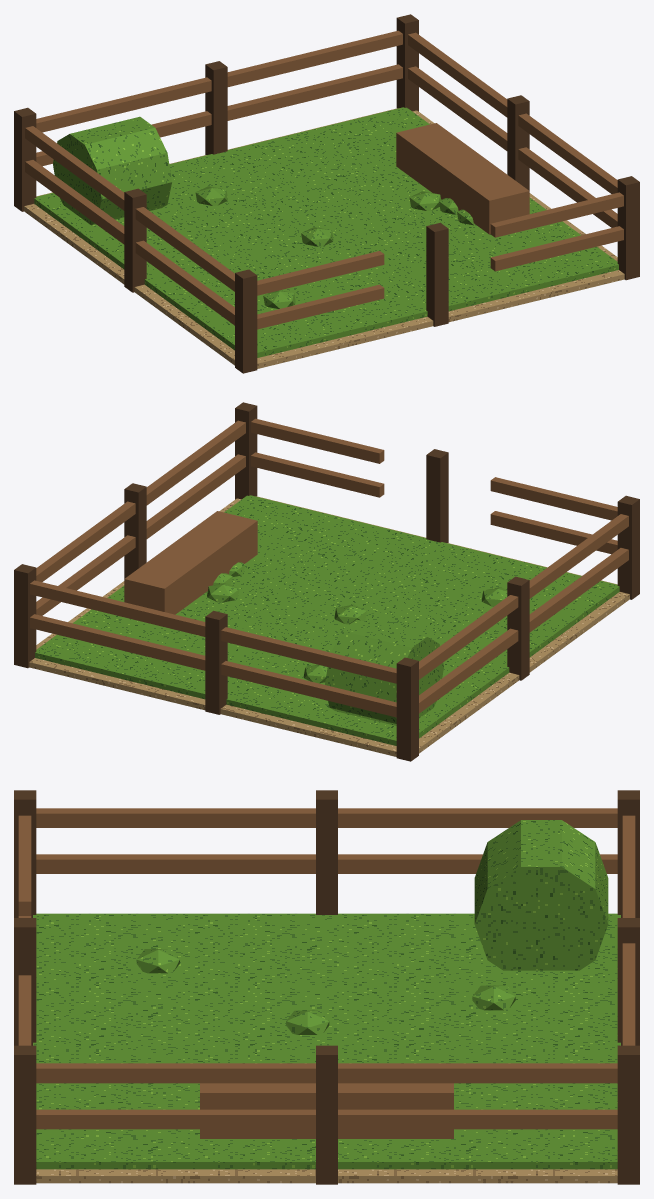
Rendered from pasture_t1.glb.
The picture shows the model from 3 angles, top to bottom: view 1: azimuth 30°, elevation 25°; view 2: azimuth 150°, elevation 25°; view 3: azimuth 270°, elevation 25°; orthographic projection. The views are drawn at different scales.
Parts seen in each view (by area): view 1: grass, ground, water_trough, hay_bale, rail_pY_1, rail_pY_0, rail_nX_0, rail_nX_1, rail_pX_1, rail_pX_0, fence_post_0, fence_post_3 (+12 smaller); view 2: grass, ground, water_trough, hay_bale, rail_pY_0, rail_pY_1, rail_nX_0, rail_nX_1, rail_pX_1, rail_pX_0, fence_post_2, fence_post_4 (+11 smaller); view 3: grass, hay_bale, rail_pX_0, rail_pX_1, rail_nX_1, rail_nX_0, water_trough, ground, fence_post_5, fence_post_7, fence_post_6, rail_pY_1 (+10 smaller).
Boxes of the visible parts, x1=… form: grass: x1=34, y1=107, x2=618, y2=357; ground: x1=24, y1=108, x2=624, y2=368; water_trough: x1=396, y1=123, x2=529, y2=234; hay_bale: x1=53, y1=116, x2=171, y2=225; rail_pY_1: x1=36, y1=30, x2=402, y2=132; rail_pY_0: x1=36, y1=64, x2=402, y2=166; rail_nX_0: x1=25, y1=160, x2=234, y2=325; rail_nX_1: x1=25, y1=126, x2=234, y2=291; rail_pX_1: x1=408, y1=32, x2=617, y2=193; rail_pX_0: x1=408, y1=66, x2=617, y2=227; fence_post_0: x1=235, y1=269, x2=257, y2=373; fence_post_3: x1=426, y1=222, x2=448, y2=326; grass: x1=35, y1=495, x2=619, y2=745; ground: x1=29, y1=496, x2=629, y2=756; water_trough: x1=124, y1=511, x2=257, y2=614; hay_bale: x1=325, y1=619, x2=443, y2=725; rail_pY_0: x1=30, y1=614, x2=396, y2=717; rail_pY_1: x1=30, y1=580, x2=396, y2=683; rail_nX_0: x1=419, y1=548, x2=628, y2=713; rail_nX_1: x1=419, y1=514, x2=628, y2=679; rail_pX_1: x1=36, y1=420, x2=245, y2=581; rail_pX_0: x1=36, y1=454, x2=245, y2=615; fence_post_2: x1=396, y1=657, x2=418, y2=761; fence_post_4: x1=205, y1=610, x2=227, y2=714; grass: x1=33, y1=913, x2=620, y2=1169; hay_bale: x1=474, y1=820, x2=608, y2=970; rail_pX_0: x1=36, y1=1109, x2=617, y2=1129; rail_pX_1: x1=36, y1=1063, x2=617, y2=1083; rail_nX_1: x1=36, y1=808, x2=617, y2=827; rail_nX_0: x1=36, y1=854, x2=617, y2=873; water_trough: x1=200, y1=1083, x2=453, y2=1138; ground: x1=36, y1=1169, x2=617, y2=1183; fence_post_5: x1=14, y1=1045, x2=36, y2=1184; fence_post_7: x1=617, y1=1045, x2=639, y2=1184; fence_post_6: x1=316, y1=1045, x2=337, y2=1184; rail_pY_1: x1=622, y1=815, x2=635, y2=1045.
Size of what is drawn, in the model's own units: 3.94 by 0.9 by 3.94.
4 materials, 2 textured.
